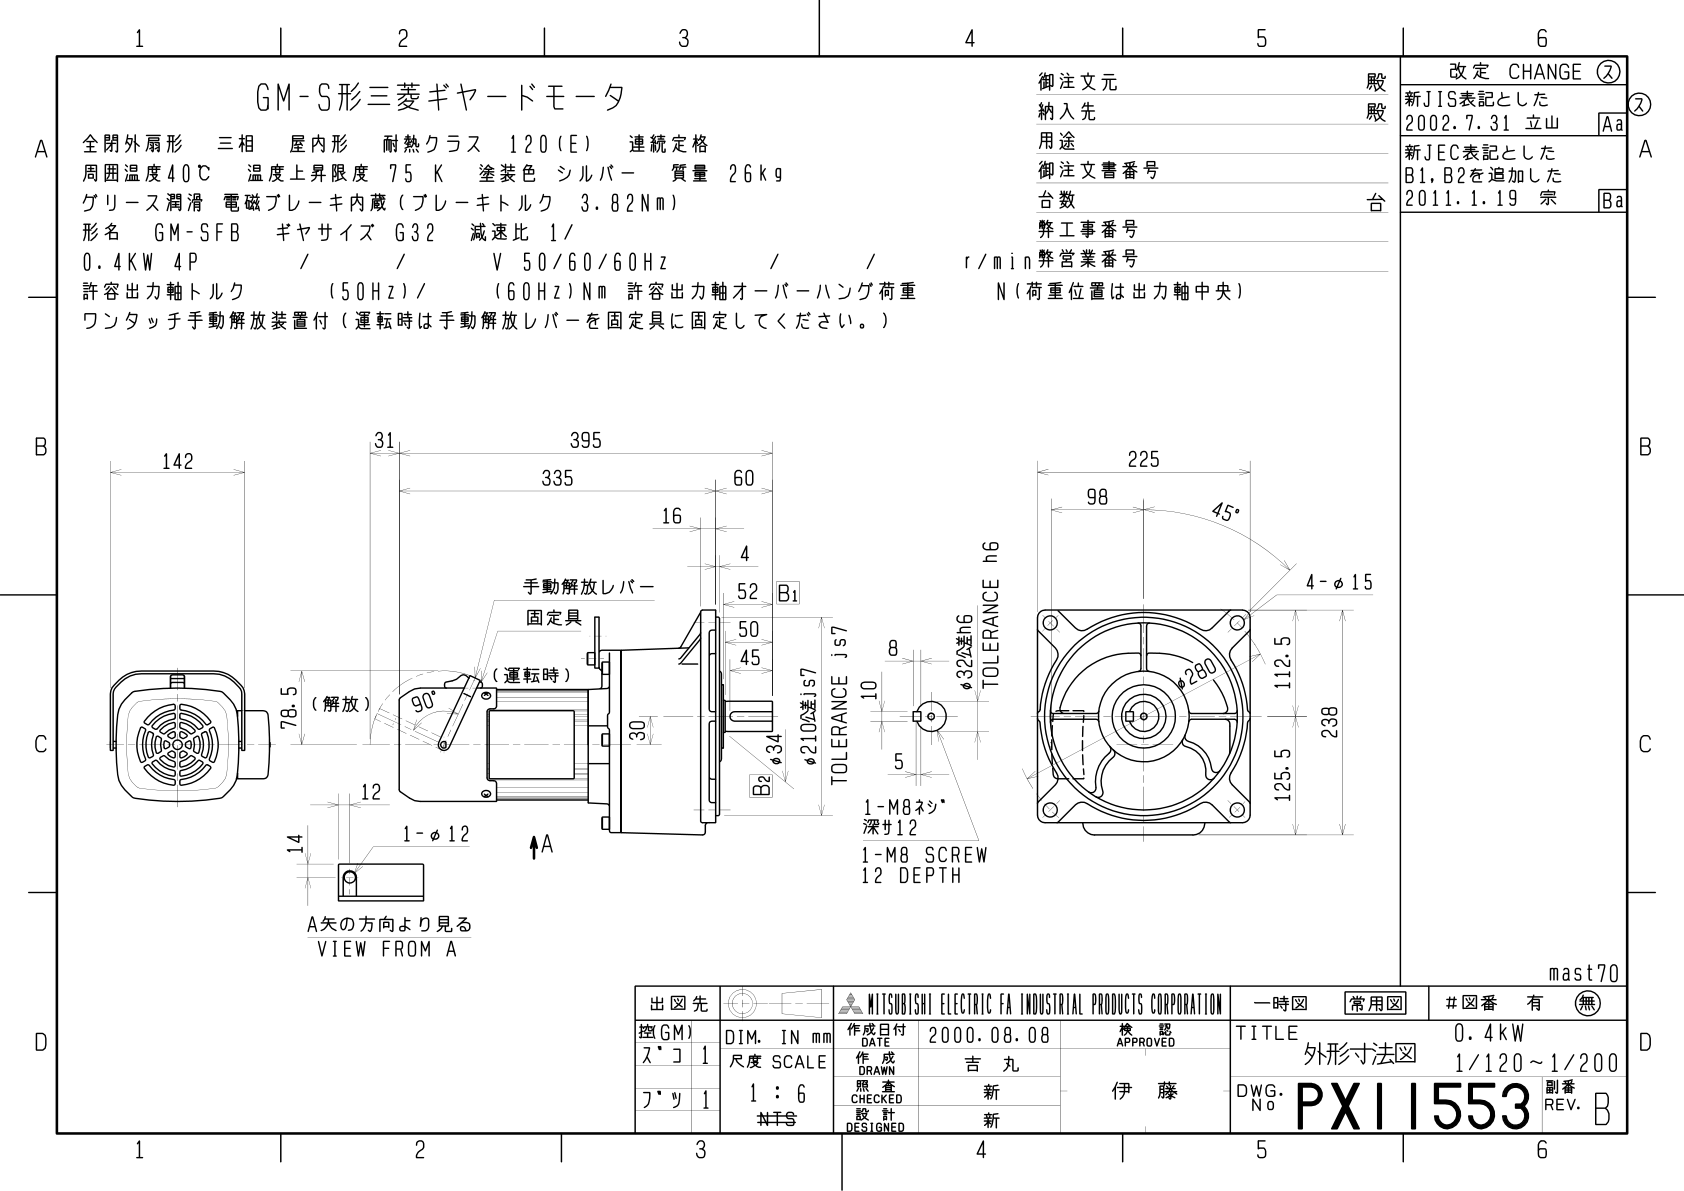GM_S_手動ブレーキ＿三相_フランジ: (85, 410, 1392, 967)
